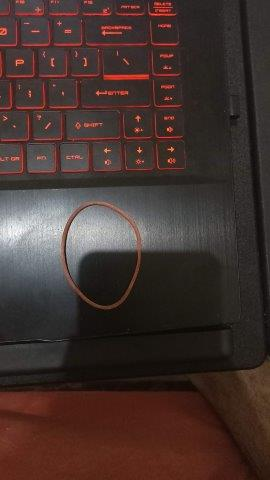karet: (61, 201, 141, 309)
